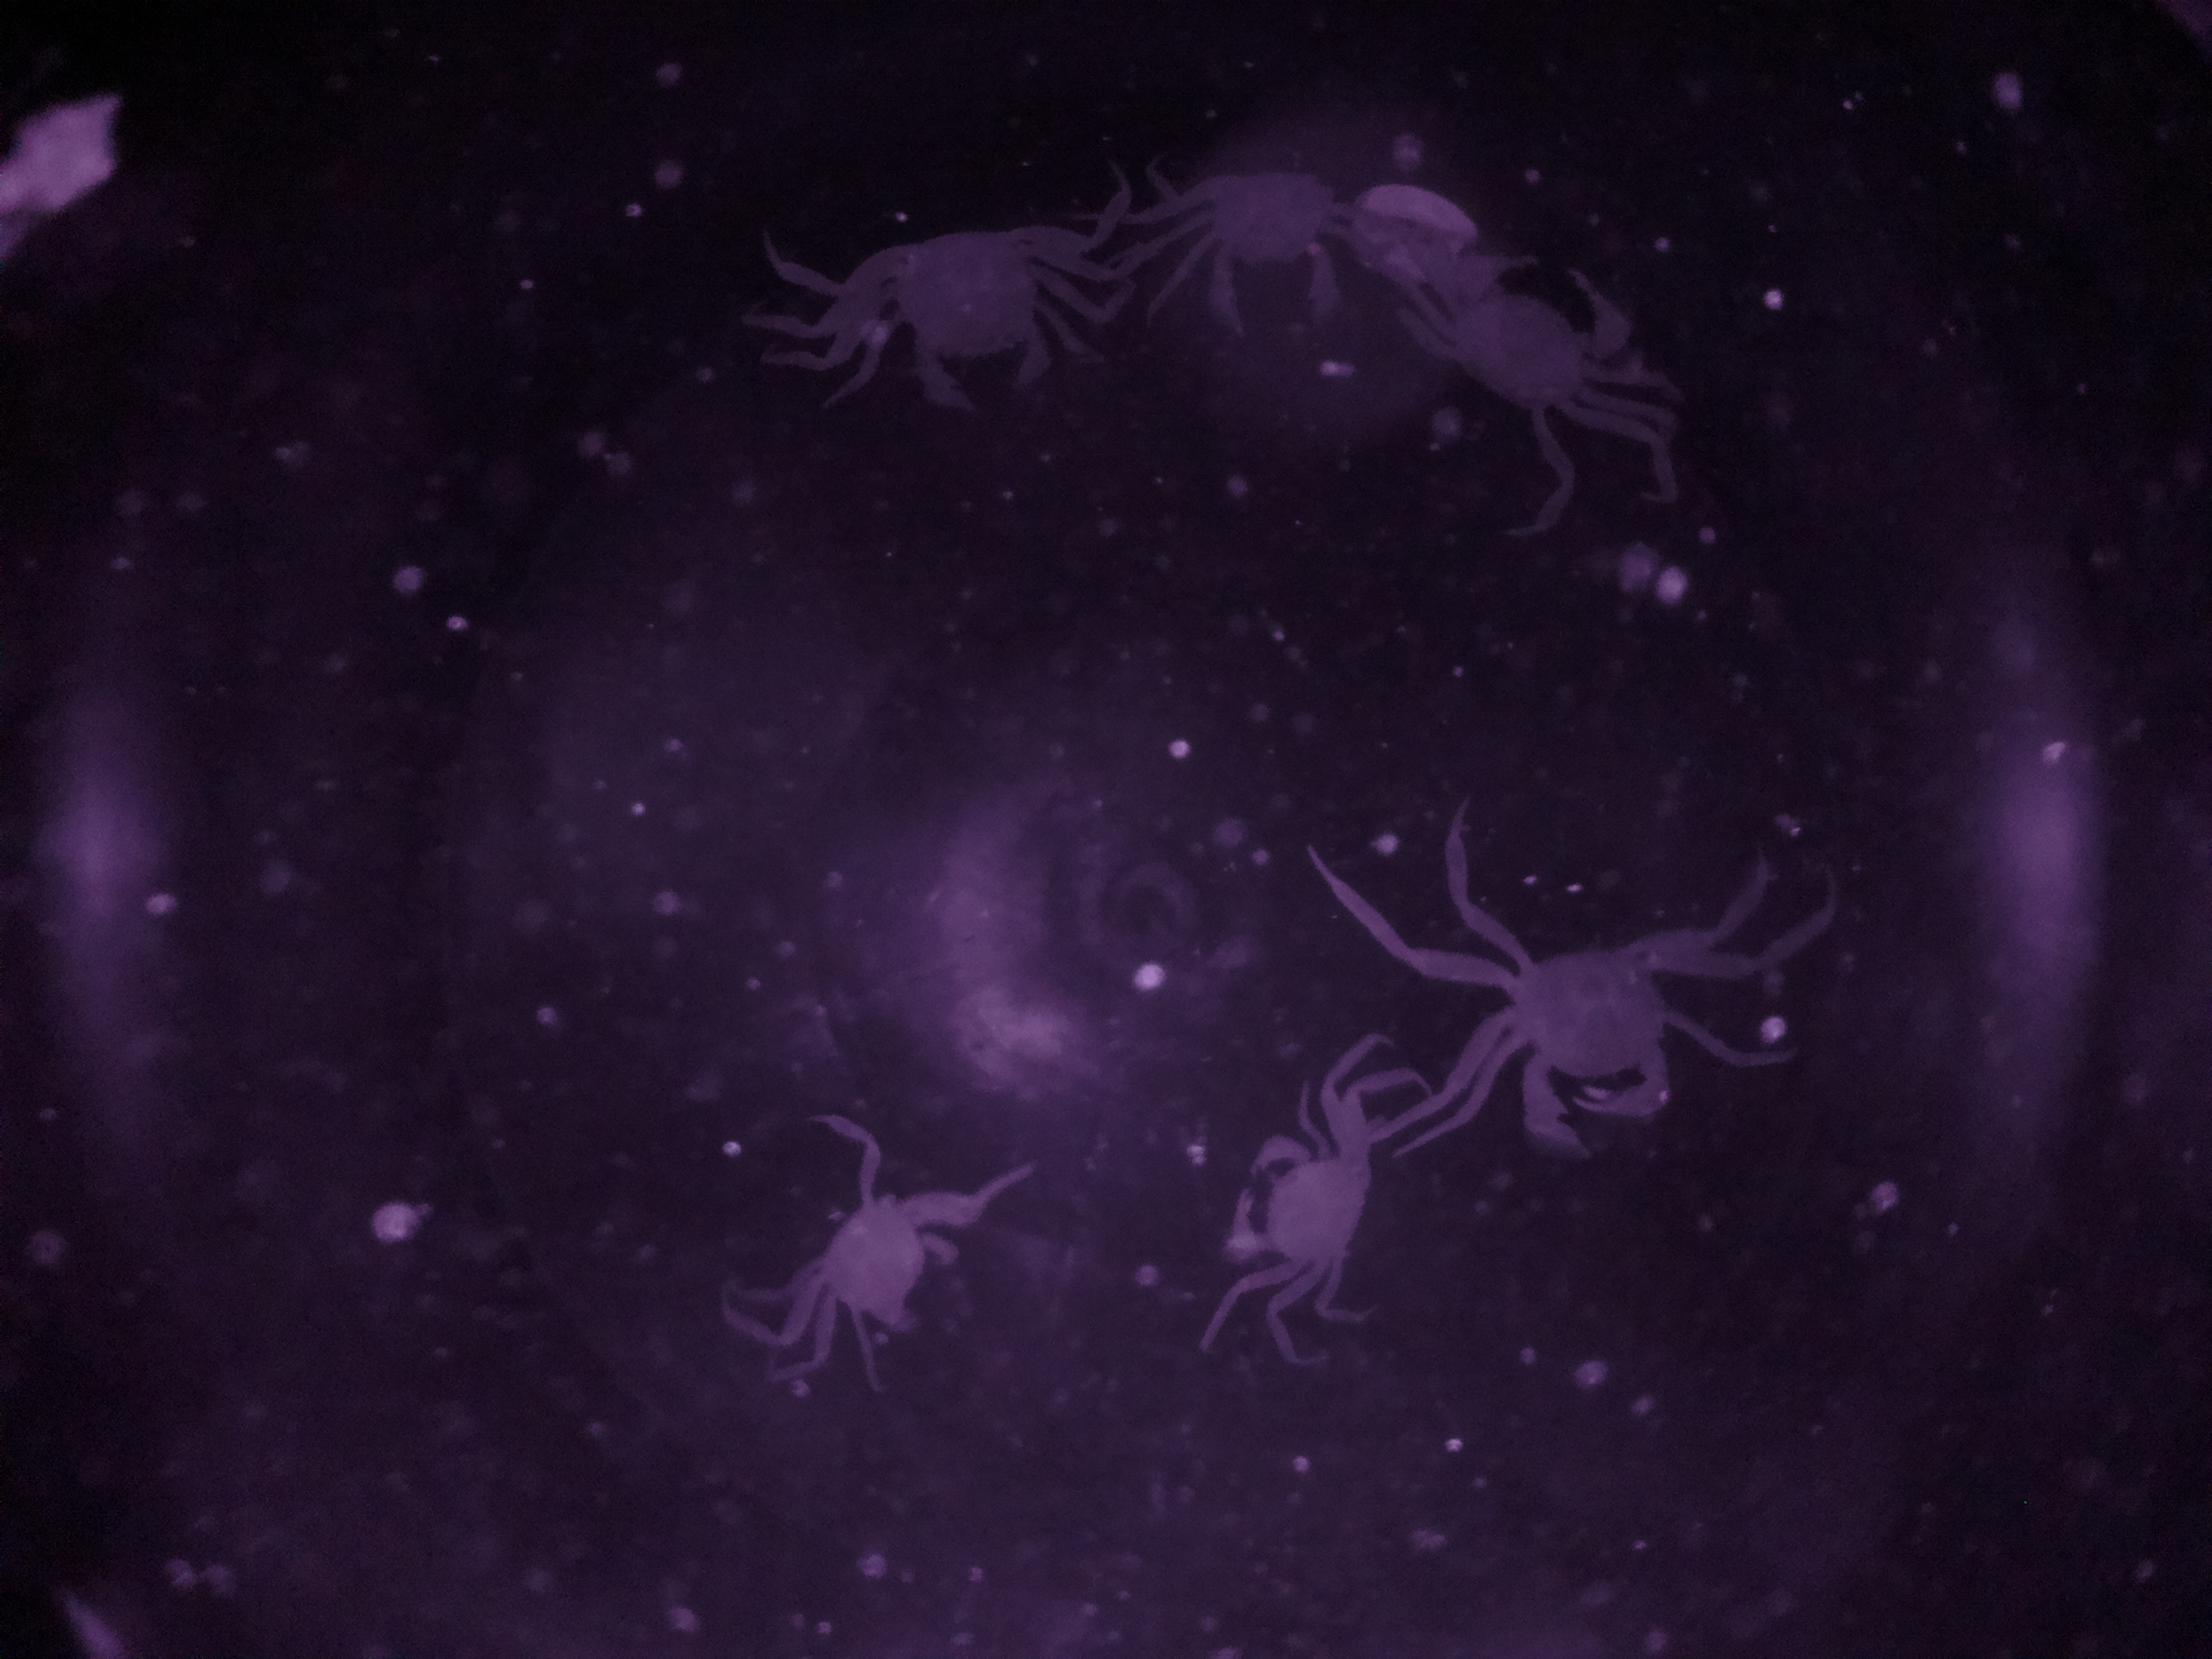Crab: (1435, 896, 1712, 1169), (855, 192, 1109, 437), (1399, 225, 1649, 458), (1204, 1086, 1402, 1321), (1157, 139, 1366, 361)
